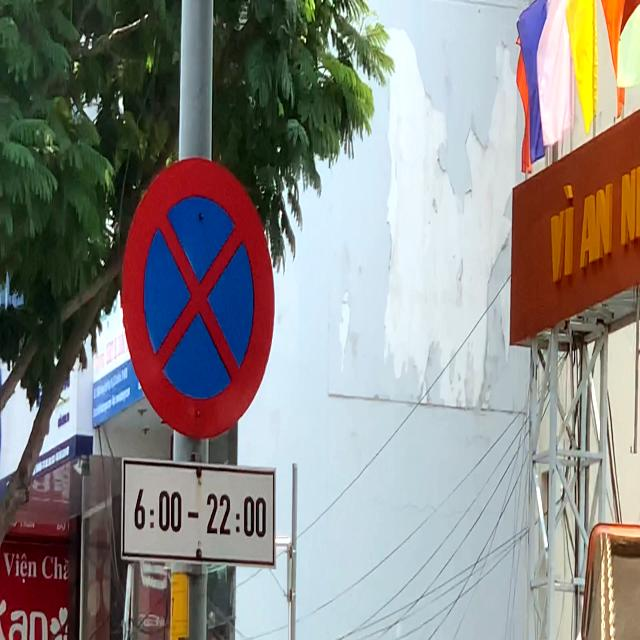P.130: (121, 157, 276, 440)
